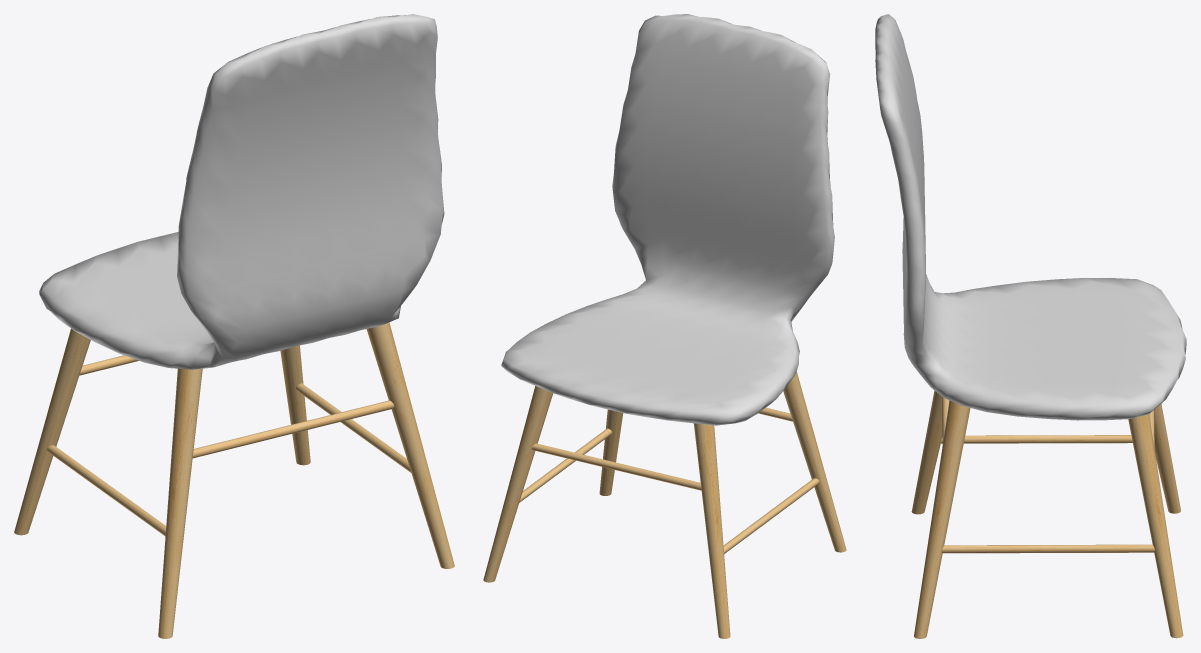
Rendered from chair1_white.obj.
The picture shows the model from 3 angles, left to right: view 1: azimuth 30°, elevation 25°; view 2: azimuth 150°, elevation 25°; view 3: azimuth 270°, elevation 25°; orthographic projection. The views are drawn at different scales.
Parts seen in each view (by area): view 1: Box7268, Cone062, Cone061, Cone060, Cylinder388, Cone059, Cylinder389, Cylinder390; view 2: Box7268, Cone060, Cone059, Cone062, Cylinder387, Cone061, Cylinder389, Cylinder390; view 3: Box7268, Cone061, Cone059, Cylinder390, Cone062, Cylinder389, Cone060.
Boxes of the visible parts, <box> form: Box7268: <box>39,14,444,369</box>; Cone062: <box>158,368,202,638</box>; Cone061: <box>366,322,454,568</box>; Cone060: <box>14,328,90,535</box>; Cylinder388: <box>192,400,394,458</box>; Cone059: <box>280,345,310,465</box>; Cylinder389: <box>47,445,166,536</box>; Cylinder390: <box>296,383,411,472</box>; Box7268: <box>501,14,834,425</box>; Cone060: <box>693,423,730,638</box>; Cone059: <box>483,386,552,582</box>; Cone062: <box>783,372,846,552</box>; Cylinder387: <box>531,443,701,490</box>; Cone061: <box>599,409,623,495</box>; Cylinder389: <box>723,478,819,553</box>; Cylinder390: <box>519,428,612,502</box>; Box7268: <box>875,14,1186,420</box>; Cone061: <box>914,400,970,638</box>; Cone059: <box>1128,414,1183,638</box>; Cylinder390: <box>941,544,1155,553</box>; Cone062: <box>911,390,942,514</box>; Cylinder389: <box>940,435,1132,443</box>; Cone060: <box>1154,404,1180,513</box>.
Size of the model in its own units: 38.45 by 71.65 by 38.32.
Materials: 2 (1 with a texture image).
